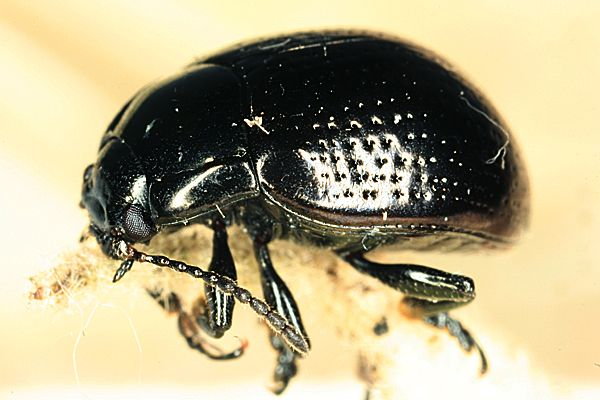Chrysolina_oricalcia: (69, 19, 531, 394)
